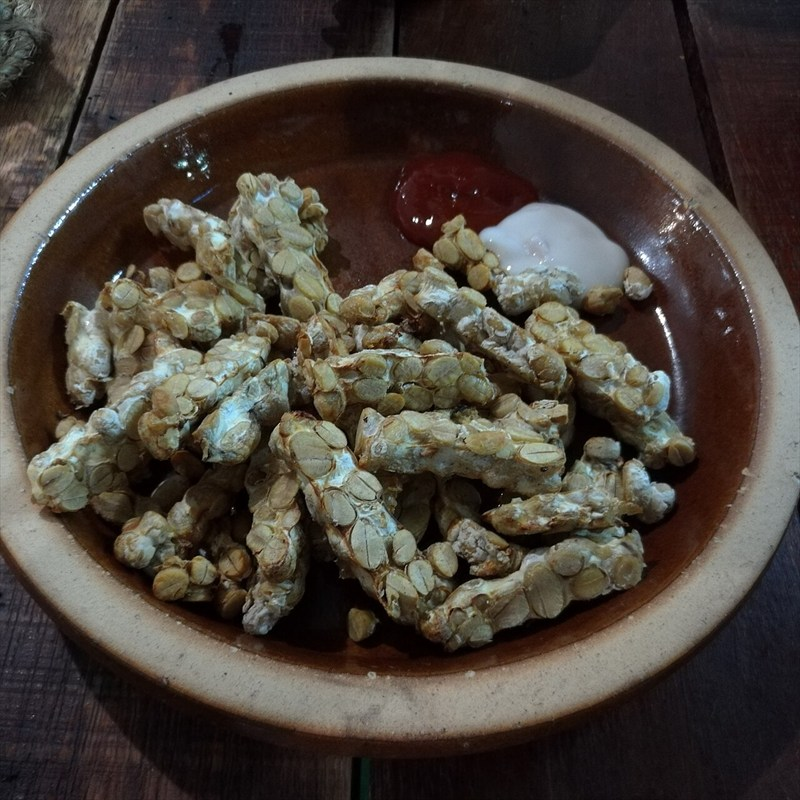Tempe Goreng: (42, 59, 678, 668)
